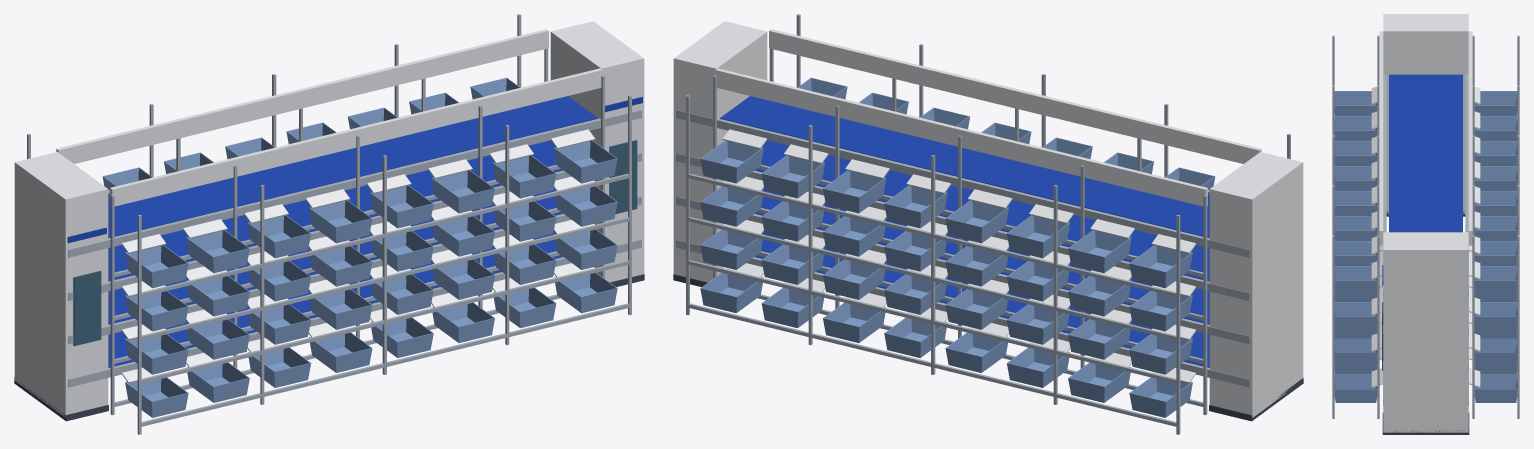
The model's file is SM_MPR_SorterCAD64_LOD2.fbx.
The picture shows the model from 3 angles, left to right: view 1: azimuth 30°, elevation 25°; view 2: azimuth 150°, elevation 25°; view 3: azimuth 270°, elevation 25°; orthographic projection. The views are drawn at different scales.
Visible parts, largest first — view 1: SM_MPR_SorterCAD64_LOD2; view 2: SM_MPR_SorterCAD64_LOD2; view 3: SM_MPR_SorterCAD64_LOD2.
Boxes of the visible parts, x1,y1,x2,y2 form: SM_MPR_SorterCAD64_LOD2: (14, 14, 644, 434); SM_MPR_SorterCAD64_LOD2: (673, 14, 1303, 434); SM_MPR_SorterCAD64_LOD2: (1332, 14, 1519, 434).
Size of the model in its own units: 623 by 209 by 231.
